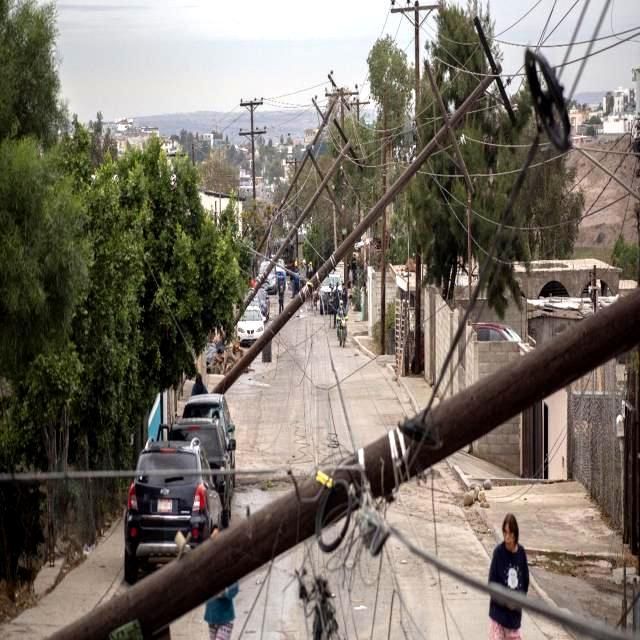Broken Pole: (45, 286, 640, 637), (209, 17, 517, 394), (220, 113, 365, 340)
